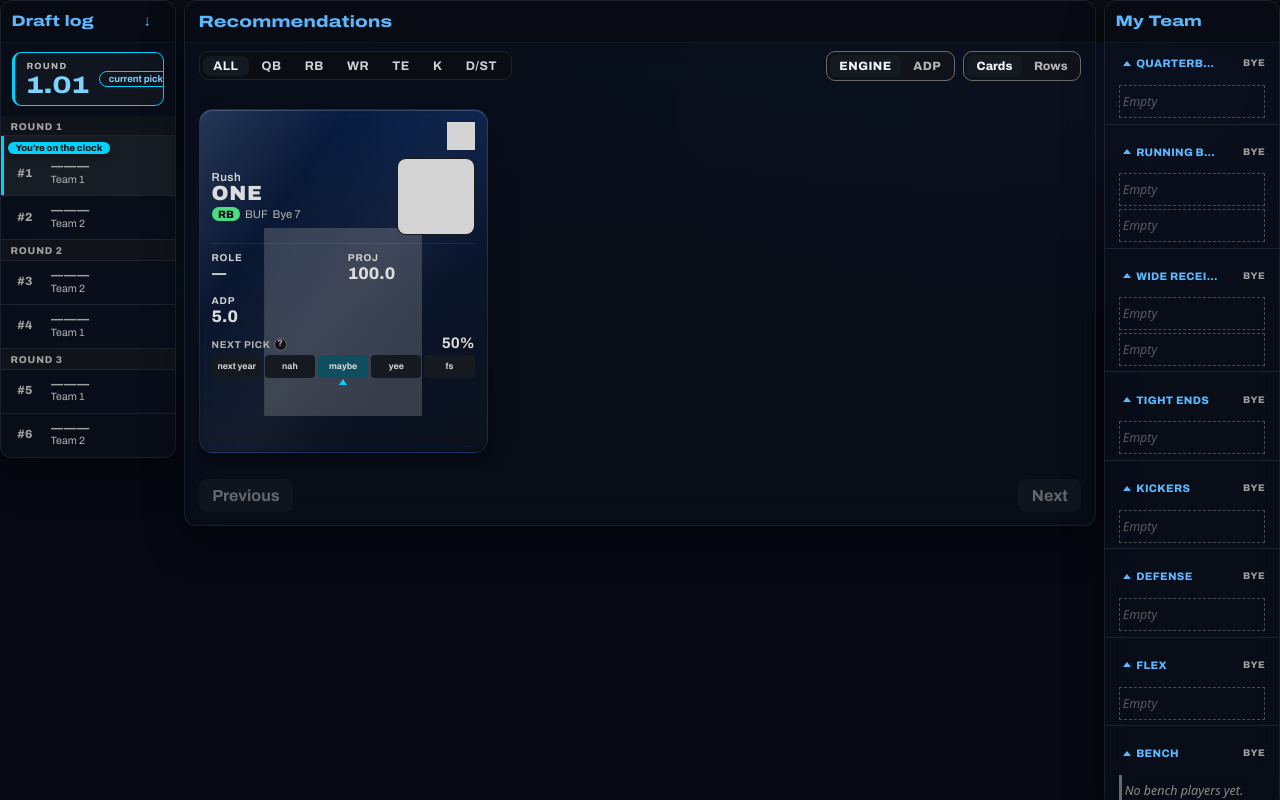
Test case: DraftWorkspace board mode and pagination › switches to ADP mode without a board-rank badge, and a projection-less player never shows the removed No-projection banner
Check: the text "One" is shown, box [212,182,262,204]
Click the tab "ADP": coordinates (927, 66) [904,55,951,77]
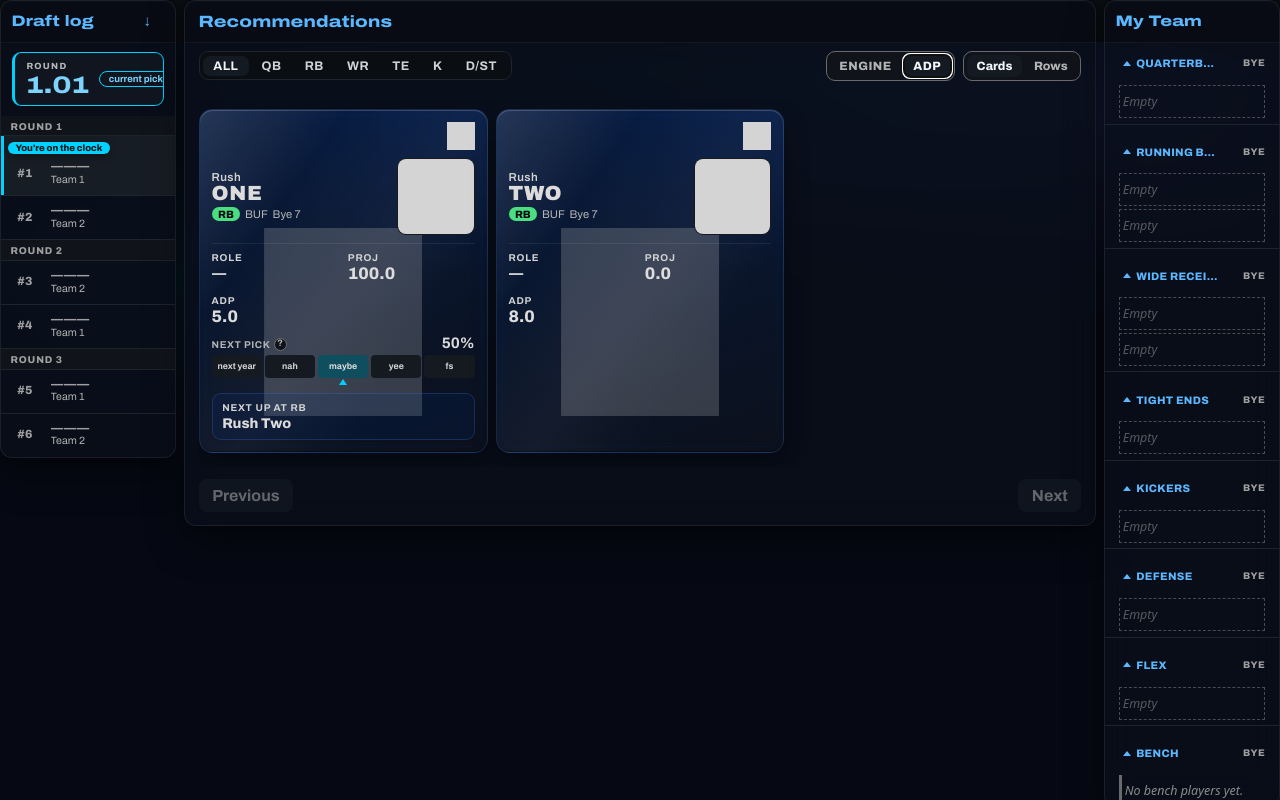
Check: the text "5.0" is shown, box [212,307,238,326]
Check: the text "8.0" is shown, box [508,307,535,326]
